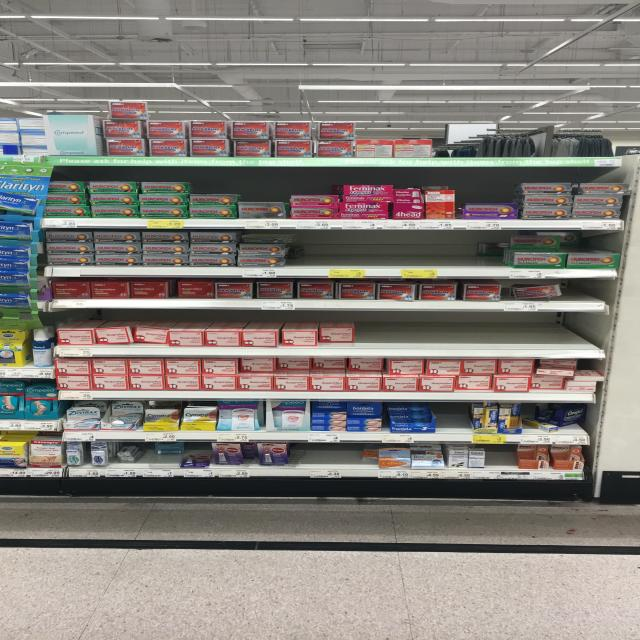void: (436, 119, 623, 157), (358, 315, 581, 343), (304, 233, 476, 265), (298, 445, 358, 467), (565, 280, 613, 300), (440, 404, 464, 432), (494, 445, 516, 467)
